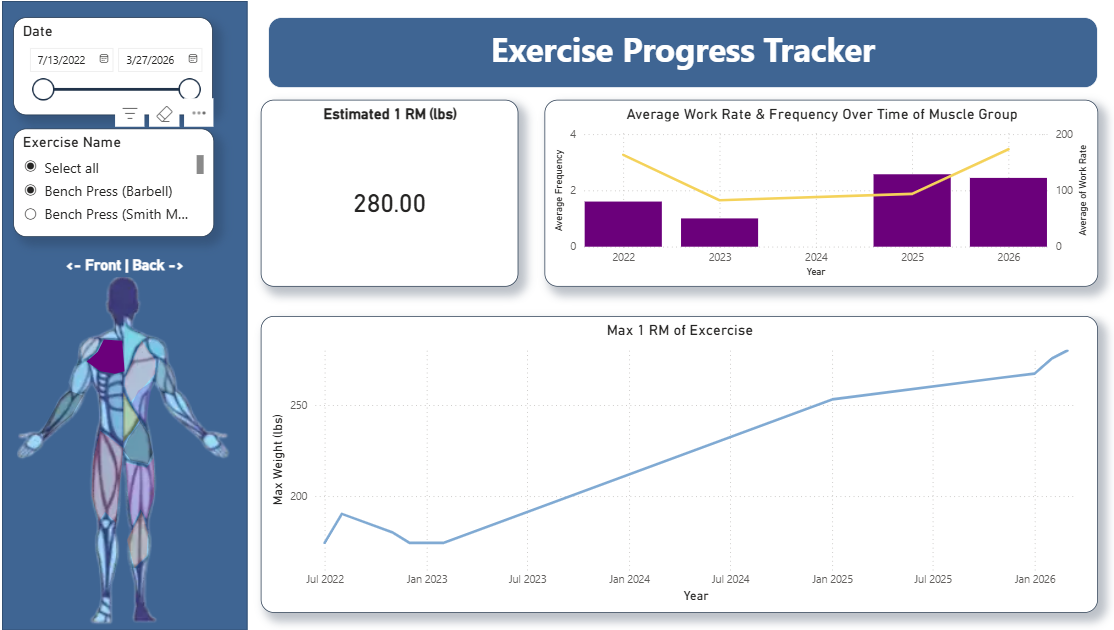

What the dashboard file says about the page in this screenshot:
{"tool":"powerbi","page":{"name":"Page 1","canvas":[1280,720],"ordinal":0},"visuals":[{"type":"shape","box":[0,0,280.6,719.4],"z":0},{"type":"lineChart","title":"Max 1 RM of Excercise","fields":{"Series":["clean1.exercise_name"],"Category":["clean1.date.Variation.Date Hierarchy.Year","clean1.date.Variation.Date Hierarchy.Month"],"Y":["Max(clean1.max_1RM)"]},"box":[295.5,359.7,956.7,338.8],"z":1000},{"type":"synopticPanelByOKVIZC365478550CD4DC0A2ED985DC3E23EED","title":"<- Front | Back ->","fields":{"category_role":["Human Anatomy (2).Muscle Name"],"legend_role":["clean1.muscle_group"]},"box":[0,291,280.6,428.4],"z":2000},{"type":"slicer","title":"Date","fields":{"Values":["clean1.date"]},"box":[13.4,17.9,228.4,111.9],"z":3000},{"type":"listSlicer","title":"Exercise Name","fields":{"Values":["clean1.exercise_name"]},"box":[13.4,146.3,229.9,123.9],"z":4000},{"type":"lineClusteredColumnComboChart","title":"Average Work Rate & Frequency Over Time of Muscle Group","fields":{"Y":["Avg(clean1.frequency)"],"Y2":["Avg(clean1.work_rate)"],"Series":["clean1.muscle_group"],"Category":["clean1.date.Variation.Date Hierarchy.Year"]},"box":[619.4,113.4,632.8,213.4],"z":5000},{"type":"card","title":"Estimated 1 RM (lbs)","fields":{"Values":["Max(clean1.max_1RM)"]},"box":[295.5,113.4,294,213.4],"z":6000},{"type":"textbox","box":[304.5,17.9,947.8,80.6],"z":6001}]}

Visuals, with their boxes in screenshot pixels (x1, y1, x2, y2), scaled from the page's 1280x720 canvas onto the 1114x630 screenshot:
shape: bbox=(0, 0, 244, 629)
"Max 1 RM of Excercise" lineChart: bbox=(257, 315, 1090, 611)
"<- Front | Back ->" synopticPanelByOKVIZC365478550CD4DC0A2ED985DC3E23EED: bbox=(0, 255, 244, 629)
"Date" slicer: bbox=(12, 16, 210, 114)
"Exercise Name" listSlicer: bbox=(12, 128, 212, 236)
"Average Work Rate & Frequency Over Time of Muscle Group" lineClusteredColumnComboChart: bbox=(539, 99, 1090, 286)
"Estimated 1 RM (lbs)" card: bbox=(257, 99, 513, 286)
textbox: bbox=(265, 16, 1090, 86)
